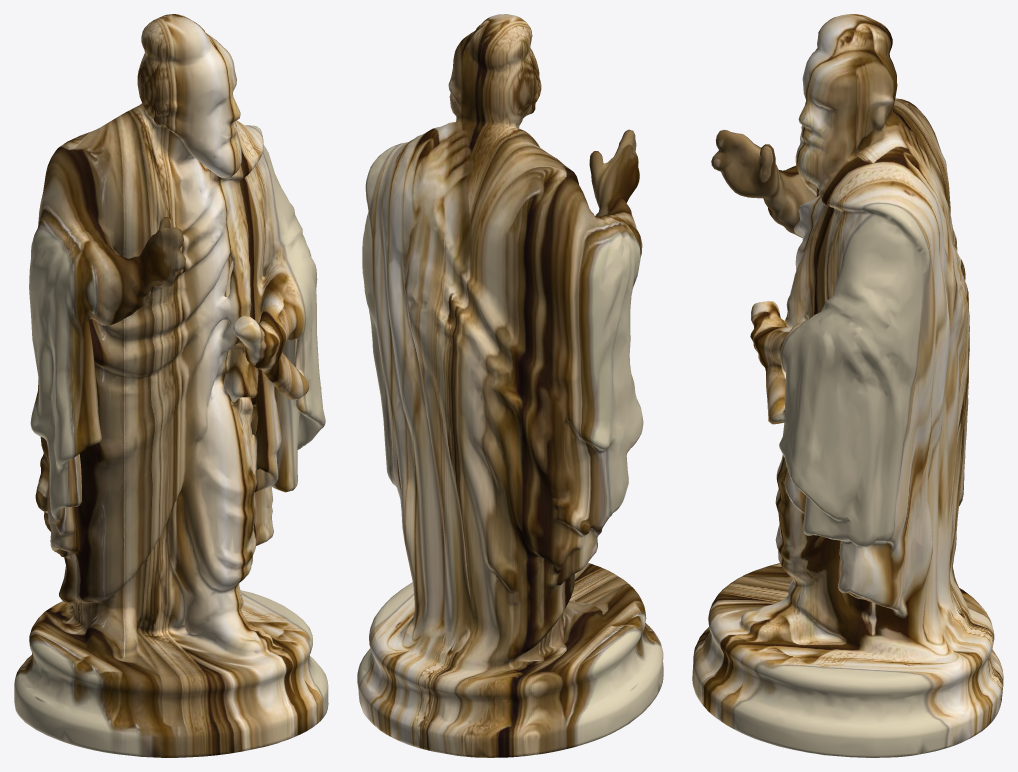
File: mantri.glb
The picture shows the model from 3 angles, left to right: view 1: azimuth 30°, elevation 25°; view 2: azimuth 150°, elevation 25°; view 3: azimuth 270°, elevation 25°; orthographic projection.
Visible parts, largest first — view 1: geometry_0; view 2: geometry_0; view 3: geometry_0.
Boxes of the visible parts, box(x1,y1,x2,y2) form: geometry_0: box(14, 14, 328, 757); geometry_0: box(357, 14, 663, 757); geometry_0: box(692, 14, 1003, 757).
Size of the model in its own units: 0.8251 by 1.99 by 0.8197.
Materials: 1 (1 with a texture image).
